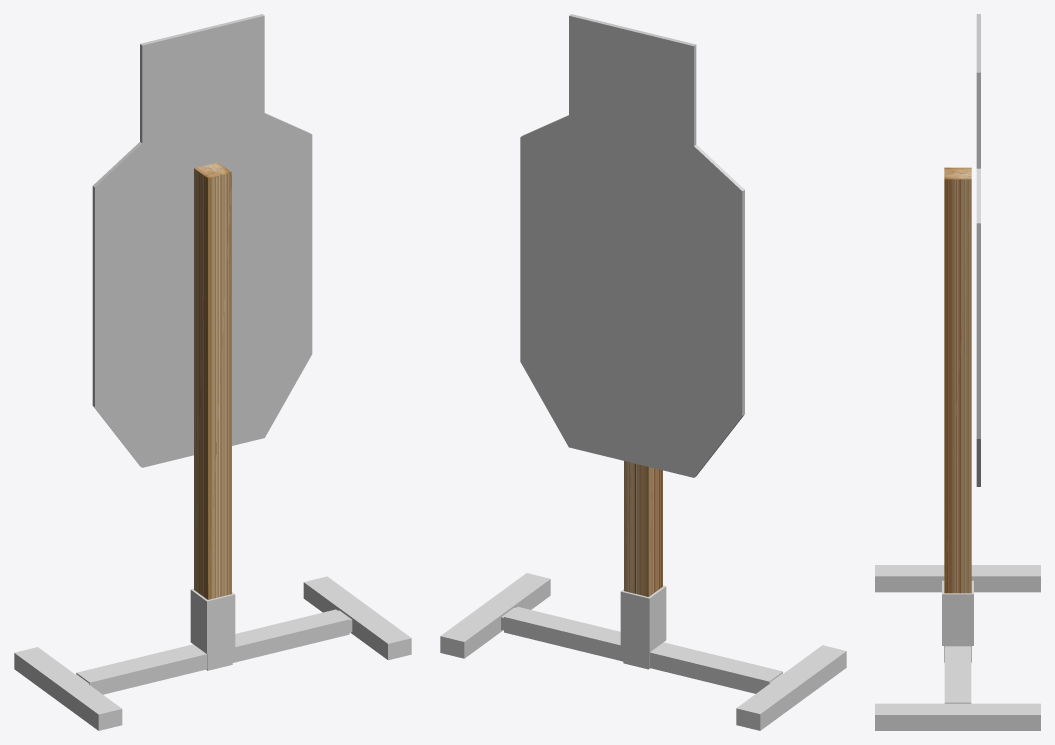
File: target.fbx
The picture shows the model from 3 angles, left to right: view 1: azimuth 30°, elevation 25°; view 2: azimuth 150°, elevation 25°; view 3: azimuth 270°, elevation 25°; orthographic projection. The views are drawn at different scales.
Visible parts, largest first — view 1: Plane.001, Cube, Plane; view 2: Plane.001, Cube, Plane; view 3: Plane, Cube, Plane.001.
Boxes of the visible parts, left/top/right/bottom form: Plane.001: left=92, top=14, right=312, bottom=467; Cube: left=14, top=576, right=411, bottom=730; Plane: left=194, top=162, right=231, bottom=599; Plane.001: left=520, top=14, right=744, bottom=477; Cube: left=440, top=573, right=846, bottom=730; Plane: left=624, top=461, right=662, bottom=596; Plane: left=944, top=167, right=971, bottom=593; Cube: left=875, top=565, right=1040, bottom=730; Plane.001: left=976, top=14, right=980, bottom=486.
Bounding box in the file's own units: 1067 × 2036 × 499.
